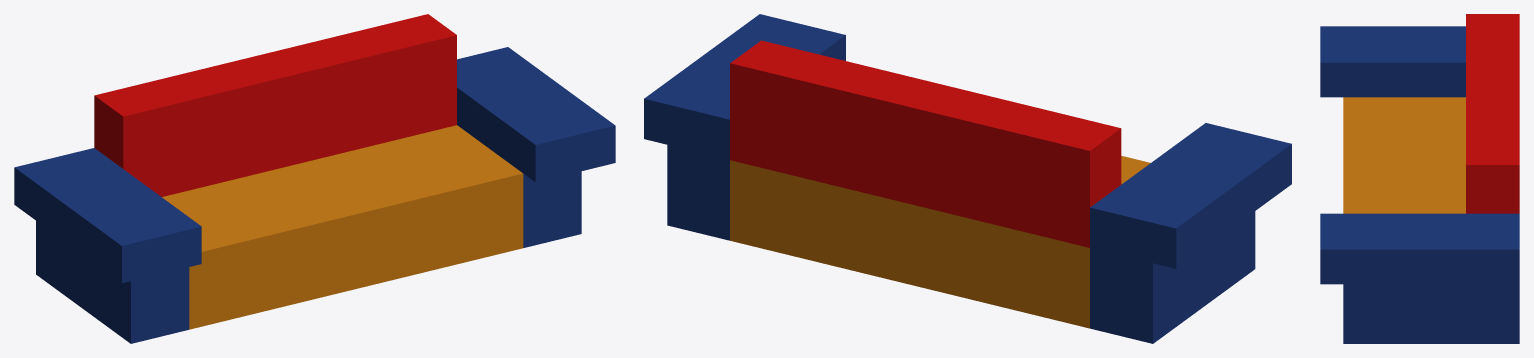
The model's file is Sofa.fbx.
The picture shows the model from 3 angles, left to right: view 1: azimuth 30°, elevation 25°; view 2: azimuth 150°, elevation 25°; view 3: azimuth 270°, elevation 25°; orthographic projection. The views are drawn at different scales.
Visible parts, largest first — view 1: Cube_10; view 2: Cube_10; view 3: Cube_10.
Part boxes in pixels (x1,y1,x2,y2): Cube_10: (14, 14, 615, 343); Cube_10: (644, 14, 1291, 343); Cube_10: (1320, 14, 1519, 343).
Bounding box in the file's own units: 690 × 220 × 260.
